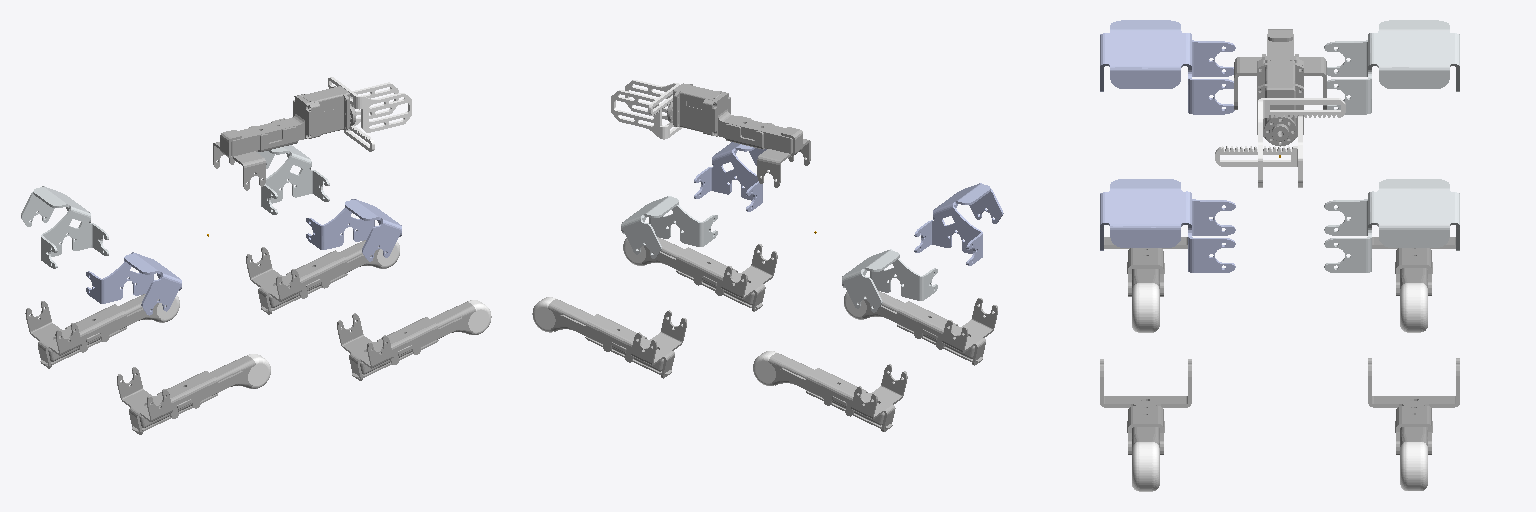
robot.urdf — xgo:
<?xml version="1.0" encoding="utf-8"?>
<!-- This URDF was automatically created by SolidWorks to URDF Exporter! Originally created by Stephen Brawner ([email redacted]) 
     Commit Version: 1.6.0-4-g7f85cfe  Build Version: 1.6.7995.38578
     For more information, please see http://wiki.ros.org/sw_urdf_exporter -->
<robot
  name="xgo">
  <link name="base">
    <visual>
      <origin rpy="0 0 0" xyz="0 0 0"/>
      <geometry>
        <box size="0.001 0.001 0.001"/>
      </geometry>
    </visual>
  </link>
  <joint name="floating_base" type="fixed">
    <origin rpy="0 0 0" xyz="0 0 0"/>
    <parent link="base"/>
    <child link="body"/>
  </joint>
  <link
    name="body">
    <inertial>
      <origin
        xyz="0 0 0"
        rpy="0 0 0" />
      <mass
        value="0.28377" />
      <inertia
        ixx="0.00012081"
        ixy="2.6e-7"
        ixz="-2.87e-6"
        iyy="0.00114744"
        iyz="1.5e-7"
        izz="0.00120568" />
    </inertial>
    <visual>
      <origin
        xyz="0 0 0"
        rpy="0 0 0" />
      <geometry>
        <mesh
          filename="../meshes/body.STL" />
      </geometry>
      <material
        name="">
        <color
          rgba="0.75294 0.75294 0.75294 1" />
      </material>
    </visual>
    <collision>
      <origin
        xyz="0 0 0"
        rpy="0 0 0" />
      <geometry>
        <mesh
          filename="../meshes/body.STL" />
      </geometry>
    </collision>
  </link>
  <link
    name="fl_hip">
    <inertial>
      <origin
        xyz="-0.014472 0.025089 0.0092733"
        rpy="0 0 0" />
      <mass
        value="0.0196" />
      <inertia
        ixx="5.89E-06"
        ixy="-5.7E-07"
        ixz="-2.6E-07"
        iyy="3.79E-06"
        iyz="-1.16E-06"
        izz="6.89E-06" />
    </inertial>
    <visual>
      <origin
        xyz="0 0 0"
        rpy="0 0 0" />
      <geometry>
        <mesh
          filename="../meshes/fl_hip.STL" />
      </geometry>
      <material
        name="">
        <color
          rgba="0.89804 0.91765 0.92941 1" />
      </material>
    </visual>
    <collision>
      <origin
        xyz="0 0 0"
        rpy="0 0 0" />
      <geometry>
        <mesh
          filename="../meshes/fl_hip.STL" />
      </geometry>
    </collision>
  </link>
  <joint
    name="fl_hip_joint"
    type="revolute">
    <origin
      xyz="0.093049 0.022297 -0.00077655"
      rpy="0 0 0" />
    <parent
      link="body" />
    <child
      link="fl_hip" />
    <axis
      xyz="1 0 0" />
    <limit
      lower="-0.8"
      upper="0.8"
      effort="0.45"
      velocity="10" />
  </joint>
  <link
    name="fl_thigh">
    <inertial>
      <origin
        xyz="-0.00135 -0.01796 -0.02975"
        rpy="0 0 0" />
      <mass
        value="0.06234296" />
      <inertia
        ixx="4.672E-05"
        ixy="-1E-7"
        ixz="1.1E-7"
        iyy="4.153E-05"
        iyz="0"
        izz="9.971E-06" />
    </inertial>
    <visual>
      <origin
        xyz="0 0 0"
        rpy="0 0 0" />
      <geometry>
        <mesh
          filename="../meshes/fl_thigh.STL" />
      </geometry>
      <material
        name="">
        <color
          rgba="0.75294 0.75294 0.75294 1" />
      </material>
    </visual>
    <collision>
      <origin
        xyz="0 0 0"
        rpy="0 0 0" />
      <geometry>
        <mesh
          filename="../meshes/fl_thigh.STL" />
      </geometry>
    </collision>
  </link>
  <joint
    name="fl_thigh_joint"
    type="revolute">
    <origin
      xyz="-0.018825 0.049813 0"
      rpy="0 0 0" />
    <parent
      link="fl_hip" />
    <child
      link="fl_thigh" />
    <axis
      xyz="0 1 0" />
    <limit
      lower="-2"
      upper="2"
      effort="0.45"
      velocity="10" />
  </joint>
  <link
    name="fl_calf">
    <inertial>
      <origin
        xyz="-0.016617 -0.018825 -0.026917"
        rpy="0 0 0" />
      <mass
        value="0.02225" />
      <inertia
        ixx="1.399E-05"
        ixy="0"
        ixz="-1.09E-06"
        iyy="1.366E-05"
        iyz="0"
        izz="1.5E-06" />
    </inertial>
    <visual>
      <origin
        xyz="0 0 0"
        rpy="0 0 0" />
      <geometry>
        <mesh
          filename="../meshes/fl_calf.STL" />
      </geometry>
      <material
        name="">
        <color
          rgba="0.75294 0.75294 0.75294 1" />
      </material>
    </visual>
    <collision>
      <origin
        xyz="0 0 0"
        rpy="0 0 0" />
      <geometry>
        <mesh
          filename="../meshes/fl_calf.STL" />
      </geometry>
    </collision>
  </link>
  <joint
    name="fl_calf_joint"
    type="revolute">
    <origin
      xyz="0 0 -0.0595"
      rpy="0 0 0" />
    <parent
      link="fl_thigh" />
    <child
      link="fl_calf" />
    <axis
      xyz="0 1 0" />
    <limit
      lower="-2.69"
      upper="-0.9"
      effort="0.45"
      velocity="10" />
  </joint>
  <link
    name="fl_foot">
    <inertial>
      <origin
        xyz="-0.00092954 0 -0.0022442"
        rpy="0 0 0" />
      <mass
        value="0.00160727" />
      <inertia
        ixx="5E-08"
        ixy="0"
        ixz="1E-08"
        iyy="8E-08"
        iyz="0"
        izz="7E-08" />
    </inertial>
    <visual>
      <origin
        xyz="0 0 0"
        rpy="0 0 0" />
      <geometry>
        <mesh
          filename="../meshes/fl_foot.STL" />
      </geometry>
      <material
        name="">
        <color
          rgba="1 1 1 1" />
      </material>
    </visual>
    <collision>
      <origin
        xyz="0 0 0"
        rpy="0 0 0" />
      <geometry>
        <mesh
          filename="../meshes/fl_foot.STL" />
      </geometry>
    </collision>
  </link>
  <joint
    name="fl_foot_joint"
    type="fixed" dont_collapse="true">
    <origin
      xyz="-0.022663 -0.018825 -0.0715"
      rpy="0 0 0" />
    <parent
      link="fl_calf" />
    <child
      link="fl_foot" />
    <axis
      xyz="0 0 0" />
  </joint>
  <link
    name="fr_hip">
    <inertial>
      <origin
        xyz="-0.014472 -0.025087 0.0092733"
        rpy="0 0 0" />
      <mass
        value="0.0196" />
      <inertia
        ixx="5.89E-06"
        ixy="5.7E-07"
        ixz="-2.6E-07"
        iyy="3.79E-06"
        iyz="1.16E-06"
        izz="6.89E-06" />
    </inertial>
    <visual>
      <origin
        xyz="0 0 0"
        rpy="0 0 0" />
      <geometry>
        <mesh
          filename="../meshes/fr_hip.STL" />
      </geometry>
      <material
        name="">
        <color
          rgba="0.79216 0.81961 0.93333 1" />
      </material>
    </visual>
    <collision>
      <origin
        xyz="0 0 0"
        rpy="0 0 0" />
      <geometry>
        <mesh
          filename="../meshes/fr_hip.STL" />
      </geometry>
    </collision>
  </link>
  <joint
    name="fr_hip_joint"
    type="revolute">
    <origin
      xyz="0.093049 -0.022303 -0.00077372"
      rpy="0 0 0" />
    <parent
      link="body" />
    <child
      link="fr_hip" />
    <axis
      xyz="1 0 0" />
    <limit
      lower="-0.8"
      upper="0.8"
      effort="0.45"
      velocity="10" />
  </joint>
  <link
    name="fr_thigh">
    <inertial>
      <origin
        xyz="-0.0044234 0.01867 -0.02975"
        rpy="0 0 0" />
      <mass
        value="0.06234296" />
      <inertia
        ixx="4.672E-05"
        ixy="1E-7"
        ixz="1.1E-7"
        iyy="4.153E-05"
        iyz="0"
        izz="9.971E-06" />
    </inertial>
    <visual>
      <origin
        xyz="0 0 0"
        rpy="0 0 0" />
      <geometry>
        <mesh
          filename="../meshes/fr_thigh.STL" />
      </geometry>
      <material
        name="">
        <color
          rgba="0.75294 0.75294 0.75294 1" />
      </material>
    </visual>
    <collision>
      <origin
        xyz="0 0 0"
        rpy="0 0 0" />
      <geometry>
        <mesh
          filename="../meshes/fr_thigh.STL" />
      </geometry>
    </collision>
  </link>
  <joint
    name="fr_thigh_joint"
    type="revolute">
    <origin
      xyz="-0.018825 -0.049811 0"
      rpy="0 0 0" />
    <parent
      link="fr_hip" />
    <child
      link="fr_thigh" />
    <axis
      xyz="0 1 0" />
    <limit
      lower="-2"
      upper="2"
      effort="0.45"
      velocity="10" />
  </joint>
  <link
    name="fr_calf">
    <inertial>
      <origin
        xyz="-0.016617 0.018825 -0.026917"
        rpy="0 0 0" />
      <mass
        value="0.02225" />
      <inertia
        ixx="1.399E-05"
        ixy="0"
        ixz="-1.09E-06"
        iyy="1.366E-05"
        iyz="0"
        izz="1.5E-06" />
    </inertial>
    <visual>
      <origin
        xyz="0 0 0"
        rpy="0 0 0" />
      <geometry>
        <mesh
          filename="../meshes/fr_calf.STL" />
      </geometry>
      <material
        name="">
        <color
          rgba="0.75294 0.75294 0.75294 1" />
      </material>
    </visual>
    <collision>
      <origin
        xyz="0 0 0"
        rpy="0 0 0" />
      <geometry>
        <mesh
          filename="../meshes/fr_calf.STL" />
      </geometry>
    </collision>
  </link>
  <joint
    name="fr_calf_joint"
    type="revolute">
    <origin
      xyz="0.00019993 0 -0.0595"
      rpy="0 0 0" />
    <parent
      link="fr_thigh" />
    <child
      link="fr_calf" />
    <axis
      xyz="0 1 0" />
    <limit
      lower="-2.69"
      upper="-0.9"
      effort="0.45"
      velocity="10" />
  </joint>
  <link
    name="fr_foot">
    <inertial>
      <origin
        xyz="-0.000929610847488466 -4.50096803022992E-08 -0.00224418223925019"
        rpy="0 0 0" />
      <mass
        value="0.00160727" />
      <inertia
        ixx="5E-08"
        ixy="0"
        ixz="1E-08"
        iyy="8E-08"
        iyz="0"
        izz="7E-08" />
    </inertial>
    <visual>
      <origin
        xyz="0 0 0"
        rpy="0 0 0" />
      <geometry>
        <mesh
          filename="../meshes/fr_foot.STL" />
      </geometry>
      <material
        name="">
        <color
          rgba="1 1 1 1" />
      </material>
    </visual>
    <collision>
      <origin
        xyz="0 0 0"
        rpy="0 0 0" />
      <geometry>
        <mesh
          filename="../meshes/fr_foot.STL" />
      </geometry>
    </collision>
  </link>
  <joint
    name="fr_foot_joint"
    type="fixed" dont_collapse="true">
    <origin
      xyz="-0.022663 0.018825 -0.0715"
      rpy="0 0 0" />
    <parent
      link="fr_calf" />
    <child
      link="fr_foot" />
    <axis
      xyz="0 0 0" />
  </joint>
  <link
    name="bl_hip">
    <inertial>
      <origin
        xyz="-0.0139719978465255 0.0250874114611194 0.00927328906936255"
        rpy="0 0 0" />
      <mass
        value="0.0196" />
      <inertia
        ixx="5.89E-06"
        ixy="-5.7E-07"
        ixz="-2.6E-07"
        iyy="3.79E-06"
        iyz="-1.16E-06"
        izz="6.89E-06" />
    </inertial>
    <visual>
      <origin
        xyz="0 0 0"
        rpy="0 0 0" />
      <geometry>
        <mesh
          filename="../meshes/bl_hip.STL" />
      </geometry>
      <material
        name="">
        <color
          rgba="0.898039215686275 0.917647058823529 0.929411764705882 1" />
      </material>
    </visual>
    <collision>
      <origin
        xyz="0 0 0"
        rpy="0 0 0" />
      <geometry>
        <mesh
          filename="../meshes/bl_hip.STL" />
      </geometry>
    </collision>
  </link>
  <joint
    name="bl_hip_joint"
    type="revolute">
    <origin
      xyz="-0.056701 0.022297 -0.00077655"
      rpy="0 0 0" />
    <parent
      link="body" />
    <child
      link="bl_hip" />
    <axis
      xyz="1 0 0" />
    <limit
      lower="-0.8"
      upper="0.8"
      effort="0.45"
      velocity="10" />
  </joint>
  <link
    name="bl_thigh">
    <inertial>
      <origin
        xyz="-0.0044577 -0.01867 -0.02975"
        rpy="0 0 0" />
      <mass
        value="0.06234296" />
      <inertia
        ixx="4.672E-05"
        ixy="-1E-7"
        ixz="1.1E-7"
        iyy="4.153E-05"
        iyz="0"
        izz="9.971E-06" />
    </inertial>
    <visual>
      <origin
        xyz="0 0 0"
        rpy="0 0 0" />
      <geometry>
        <mesh
          filename="../meshes/bl_thigh.STL" />
      </geometry>
      <material
        name="">
        <color
          rgba="0.75294 0.75294 0.75294 1" />
      </material>
    </visual>
    <collision>
      <origin
        xyz="0 0 0"
        rpy="0 0 0" />
      <geometry>
        <mesh
          filename="../meshes/bl_thigh.STL" />
      </geometry>
    </collision>
  </link>
  <joint
    name="bl_thigh_joint"
    type="revolute">
    <origin
      xyz="-0.018325 0.049811 0"
      rpy="0 0 0" />
    <parent
      link="bl_hip" />
    <child
      link="bl_thigh" />
    <axis
      xyz="0 1 0" />
    <limit
      lower="-2"
      upper="2"
      effort="0.45"
      velocity="10" />
  </joint>
  <link
    name="bl_calf">
    <inertial>
      <origin
        xyz="-0.0166167777717992 -0.0188249730950225 -0.026917070061231"
        rpy="0 0 0" />
      <mass
        value="0.02225" />
      <inertia
        ixx="1.399E-05"
        ixy="0"
        ixz="-1.09E-06"
        iyy="1.366E-05"
        iyz="0"
        izz="1.5E-06" />
    </inertial>
    <visual>
      <origin
        xyz="0 0 0"
        rpy="0 0 0" />
      <geometry>
        <mesh
          filename="../meshes/bl_calf.STL" />
      </geometry>
      <material
        name="">
        <color
          rgba="0.752941176470588 0.752941176470588 0.752941176470588 1" />
      </material>
    </visual>
    <collision>
      <origin
        xyz="0 0 0"
        rpy="0 0 0" />
      <geometry>
        <mesh
          filename="../meshes/bl_calf.STL" />
      </geometry>
    </collision>
  </link>
  <joint
    name="bl_calf_joint"
    type="revolute">
    <origin
      xyz="0 0 -0.0595"
      rpy="0 0 0" />
    <parent
      link="bl_thigh" />
    <child
      link="bl_calf" />
    <axis
      xyz="0 1 0" />
    <limit
      lower="-2.69"
      upper="-0.9"
      effort="0.45"
      velocity="10" />
  </joint>
  <link
    name="bl_foot">
    <inertial>
      <origin
        xyz="-0.00092961 -4.501E-08 -0.0022442"
        rpy="0 0 0" />
      <mass
        value="0.00160727" />
      <inertia
        ixx="5E-08"
        ixy="0"
        ixz="1E-08"
        iyy="8E-08"
        iyz="0"
        izz="7E-08" />
    </inertial>
    <visual>
      <origin
        xyz="0 0 0"
        rpy="0 0 0" />
      <geometry>
        <mesh
          filename="../meshes/bl_foot.STL" />
      </geometry>
      <material
        name="">
        <color
          rgba="1 1 1 1" />
      </material>
    </visual>
    <collision>
      <origin
        xyz="0 0 0"
        rpy="0 0 0" />
      <geometry>
        <mesh
          filename="../meshes/bl_foot.STL" />
      </geometry>
    </collision>
  </link>
  <joint
    name="bl_foot_joint"
    type="fixed" dont_collapse="true">
    <origin
      xyz="-0.022663 -0.018825 -0.0715"
      rpy="0 0 0" />
    <parent
      link="bl_calf" />
    <child
      link="bl_foot" />
    <axis
      xyz="0 0 0" />
  </joint>
  <link
    name="br_hip">
    <inertial>
      <origin
        xyz="-0.0139720126736417 -0.0250874024827749 0.00927327962848533"
        rpy="0 0 0" />
      <mass
        value="0.0196" />
      <inertia
        ixx="5.89E-06"
        ixy="5.7E-07"
        ixz="-2.6E-07"
        iyy="3.79E-06"
        iyz="1.16E-06"
        izz="6.89E-06" />
    </inertial>
    <visual>
      <origin
        xyz="0 0 0"
        rpy="0 0 0" />
      <geometry>
        <mesh
          filename="../meshes/br_hip.STL" />
      </geometry>
      <material
        name="">
        <color
          rgba="0.792156862745098 0.819607843137255 0.933333333333333 1" />
      </material>
    </visual>
    <collision>
      <origin
        xyz="0 0 0"
        rpy="0 0 0" />
      <geometry>
        <mesh
          filename="../meshes/br_hip.STL" />
      </geometry>
    </collision>
  </link>
  <joint
    name="br_hip_joint"
    type="revolute">
    <origin
      xyz="-0.056701 -0.022303 -0.00077372"
      rpy="0 0 0" />
    <parent
      link="body" />
    <child
      link="br_hip" />
    <axis
      xyz="1 0 0" />
    <limit
      lower="-0.8"
      upper="0.8"
      effort="0.45"
      velocity="10" />
  </joint>
  <link
    name="br_thigh">
    <inertial>
      <origin
        xyz="-0.0044234 0.01867 -0.02975"
        rpy="0 0 0" />
      <mass
        value="0.06234296" />
      <inertia
        ixx="4.672E-05"
        ixy="1E-7"
        ixz="1.1E-7"
        iyy="4.153E-05"
        iyz="0"
        izz="9.971E-06" />
    </inertial>
    <visual>
      <origin
        xyz="0 0 0"
        rpy="0 0 0" />
      <geometry>
        <mesh
          filename="../meshes/br_thigh.STL" />
      </geometry>
      <material
        name="">
        <color
          rgba="0.75294 0.75294 0.75294 1" />
      </material>
    </visual>
    <collision>
      <origin
        xyz="0 0 0"
        rpy="0 0 0" />
      <geometry>
        <mesh
          filename="../meshes/br_thigh.STL" />
      </geometry>
    </collision>
  </link>
  <joint
    name="br_thigh_joint"
    type="revolute">
    <origin
      xyz="-0.018325 -0.049811 0"
      rpy="0 0 0" />
    <parent
      link="br_hip" />
    <child
      link="br_thigh" />
    <axis
      xyz="0 1 0" />
    <limit
      lower="-2"
      upper="2"
      effort="0.45"
      velocity="10" />
  </joint>
  <link
    name="br_calf">
    <inertial>
      <origin
        xyz="-0.016617 0.018825 -0.026917"
        rpy="0 0 0" />
      <mass
        value="0.02225" />
      <inertia
        ixx="1.399E-05"
        ixy="0"
        ixz="-1.09E-06"
        iyy="1.366E-05"
        iyz="0"
        izz="1.5E-06" />
    </inertial>
    <visual>
      <origin
        xyz="0 0 0"
        rpy="0 0 0" />
      <geometry>
        <mesh
          filename="../meshes/br_calf.STL" />
      </geometry>
      <material
        name="">
        <color
          rgba="0.75294 0.75294 0.75294 1" />
      </material>
    </visual>
    <collision>
      <origin
        xyz="0 0 0"
        rpy="0 0 0" />
      <geometry>
        <mesh
          filename="../meshes/br_calf.STL" />
      </geometry>
    </collision>
  </link>
  <joint
    name="br_calf_joint"
    type="revolute">
    <origin
      xyz="0.00019993 0 -0.0595"
      rpy="0 0 0" />
    <parent
      link="br_thigh" />
    <child
      link="br_calf" />
    <axis
      xyz="0 1 0" />
    <limit
      lower="-2.69"
      upper="-0.9"
      effort="0.45"
      velocity="10" />
  </joint>
  <link
    name="br_foot">
    <inertial>
      <origin
        xyz="-0.00092961 -4.501E-08 -0.0022442"
        rpy="0 0 0" />
      <mass
        value="0.00160727" />
      <inertia
        ixx="5E-08"
        ixy="0"
        ixz="1E-08"
        iyy="8E-08"
        iyz="0"
        izz="7E-08" />
    </inertial>
    <visual>
      <origin
        xyz="0 0 0"
        rpy="0 0 0" />
      <geometry>
        <mesh
          filename="../meshes/br_foot.STL" />
      </geometry>
      <material
        name="">
        <color
          rgba="1 1 1 1" />
      </material>
    </visual>
    <collision>
      <origin
        xyz="0 0 0"
        rpy="0 0 0" />
      <geometry>
        <mesh
          filename="../meshes/br_foot.STL" />
      </geometry>
    </collision>
  </link>
  <joint
    name="br_foot_joint"
    type="fixed" dont_collapse="true">
    <origin
      xyz="-0.022663 0.018825 -0.0715"
      rpy="0 0 0" />
    <parent
      link="br_calf" />
    <child
      link="br_foot" />
    <axis
      xyz="0 0 0" />
  </joint>
  <link
    name="arm_thigh">
    <inertial>
      <origin
        xyz="-0.02975 0.01867 -0.0044577"
        rpy="0 0 0" />
      <mass
        value="0.018812" />
      <inertia
        ixx="9.71E-06"
        ixy="0"
        ixz="1.1E-7"
        iyy="4.153E-05"
        iyz="1E-7"
        izz="4.672E-05" />
    </inertial>
    <visual>
      <origin
        xyz="0 0 0"
        rpy="0 0 0" />
      <geometry>
        <mesh
          filename="../meshes/arm_thigh.STL" />
      </geometry>
      <material
        name="">
        <color
          rgba="0.75294 0.75294 0.75294 1" />
      </material>
    </visual>
    <collision>
      <origin
        xyz="0 0 0"
        rpy="0 0 0" />
      <geometry>
        <mesh
          filename="../meshes/arm_thigh.STL" />
      </geometry>
    </collision>
  </link>
  <joint
    name="arm_thigh_joint"
    type="fixed" dont_collapse="true">
    <origin
      xyz="0.080718 -0.018358 0.037252"
      rpy="0 0 0" />
    <parent
      link="body" />
    <child
      link="arm_thigh" />
  </joint>
  <link
    name="arm_calf">
    <inertial>
      <origin
        xyz="0.02333 0.018563 0.017123"
        rpy="0 0 0" />
      <mass
        value="0.017297" />
      <inertia
        ixx="3.72E-06"
        ixy="4E-08"
        ixz="-3.38E-06"
        iyy="2.722E-05"
        iyz="-1E-08"
        izz="2.638E-05" />
    </inertial>
    <visual>
      <origin
        xyz="0 0 0"
        rpy="0 0 0" />
      <geometry>
        <mesh
          filename="../meshes/arm_calf.STL" />
      </geometry>
      <material
        name="">
        <color
          rgba="0.75294 0.75294 0.75294 1" />
      </material>
    </visual>
    <collision>
      <origin
        xyz="0 0 0"
        rpy="0 0 0" />
      <geometry>
        <mesh
          filename="../meshes/arm_calf.STL" />
      </geometry>
    </collision>
  </link>
  <joint
    name="arm_calf_joint"
    type="fixed" dont_collapse="true">
    <origin
      xyz="-0.0595 0 0"
      rpy="0 0 0" />
    <parent
      link="arm_thigh" />
    <child
      link="arm_calf" />
  </joint>
  <link
    name="hand_right">
    <inertial>
      <origin
        xyz="0.011578 -0.0072849 -0.0068499"
        rpy="0 0 0" />
      <mass
        value="0.0010815" />
      <inertia
        ixx="1.5564E-07"
        ixy="6.1813E-08"
        ixz="4.8265E-08"
        iyy="2.117E-07"
        iyz="-3.5622E-08"
        izz="2.476E-07" />
    </inertial>
    <visual>
      <origin
        xyz="0 0 0"
        rpy="0 0 0" />
      <geometry>
        <mesh
          filename="../meshes/hand_right.STL" />
      </geometry>
      <material
        name="">
        <color
          rgba="1 1 1 1" />
      </material>
    </visual>
    <collision>
      <origin
        xyz="0 0 0"
        rpy="0 0 0" />
      <geometry>
        <mesh
          filename="../meshes/hand_right.STL" />
      </geometry>
    </collision>
  </link>
  <joint
    name="hand_right_joint"
    type="fixed" dont_collapse="true">
    <origin
      xyz="0.075852 0.022675 0.029321"
      rpy="0 0 0" />
    <parent
      link="arm_calf" />
    <child
      link="hand_right" />
  </joint>
  <link
    name="hand_left">
    <inertial>
      <origin
        xyz="0.011578 0.0072849 0.0068499"
        rpy="0 0 0" />
      <mass
        value="0.0010815" />
      <inertia
        ixx="1.5564E-07"
        ixy="-6.1813E-08"
        ixz="-4.8265E-08"
        iyy="2.117E-07"
        iyz="-3.5622E-08"
        izz="2.476E-07" />
    </inertial>
    <visual>
      <origin
        xyz="0 0 0"
        rpy="0 0 0" />
      <geometry>
        <mesh
          filename="../meshes/hand_left.STL" />
      </geometry>
      <material
        name="">
        <color
          rgba="1 1 1 1" />
      </material>
    </visual>
    <collision>
      <origin
        xyz="0 0 0"
        rpy="0 0 0" />
      <geometry>
        <mesh
          filename="../meshes/hand_left.STL" />
      </geometry>
    </collision>
  </link>
  <joint
    name="hand_left_joint"
    type="fixed" dont_collapse="true">
    <origin
      xyz="0.075852 0.014475 0.0074211"
      rpy="0 0 0" />
    <parent
      link="arm_calf" />
    <child
      link="hand_left" />
    <mimic joint="hand_right_joint"/>
  </joint>
</robot>

--- What the picture shows (computed from the rendered views, not written in the file) ---
The picture shows the robot from 3 angles, left to right: view 1: azimuth 30°, elevation 25°; view 2: azimuth 150°, elevation 25°; view 3: azimuth 270°, elevation 25°; orthographic projection.
Robot: xgo — 22 links, 21 joints (12 revolute, 9 fixed); root link base; default pose: joints at zero except 4 at the middle of their limits (fl_calf_joint = -1.79, fr_calf_joint = -1.79, bl_calf_joint = -1.79, br_calf_joint = -1.79).
Visible links, largest first — view 1: arm_calf, fr_calf, br_calf, fl_calf, bl_calf, bl_hip, fr_hip, br_hip, fl_hip, hand_right, hand_left, br_foot (+1 smaller); view 2: arm_calf, bl_calf, fl_calf, fr_calf, br_calf, br_hip, fl_hip, bl_hip, fr_hip, hand_left, hand_right, bl_foot (+1 smaller); view 3: fr_hip, fl_hip, br_hip, bl_hip, arm_calf, fl_calf, fr_calf, br_calf, bl_calf, hand_right, hand_left, br_foot (+3 smaller).
Boxes of the visible links, x1,y1,x2,y2 form: arm_calf: (213,86,355,190); fr_calf: (337,301,475,380); br_calf: (117,355,255,434); fl_calf: (246,240,381,314); bl_calf: (25,294,160,368); bl_hip: (21,186,108,268); fr_hip: (306,199,401,261); br_hip: (86,252,181,315); fl_hip: (257,145,329,214); hand_right: (328,77,411,132); hand_left: (344,82,398,151); br_foot: (248,354,270,388); arm_calf: (667,83,810,187); bl_calf: (768,353,907,431); fl_calf: (548,299,686,378); fr_calf: (642,237,777,311); br_calf: (862,291,997,365); br_hip: (914,183,1003,265); fl_hip: (621,196,717,258); bl_hip: (842,249,937,312); fr_hip: (694,142,766,211); hand_left: (611,90,682,139); hand_right: (625,80,679,119); bl_foot: (753,351,776,385); fr_hip: (1100,179,1235,272); fl_hip: (1324,179,1459,272); br_hip: (1100,20,1235,114); bl_hip: (1324,20,1459,114); arm_calf: (1234,29,1326,146); fl_calf: (1368,358,1459,454); fr_calf: (1100,359,1191,454); br_calf: (1104,237,1187,296); bl_calf: (1372,237,1455,295); hand_right: (1258,98,1345,187); hand_left: (1215,116,1302,187); br_foot: (1132,283,1159,332).
Size in the robot's own frame: 0.2525 by 0.1432 by 0.161 metres.
15 mesh visuals loaded from 21 distinct referenced files (15 binary STL); not drawn: 6 (reference not matched to a file when rendering).
